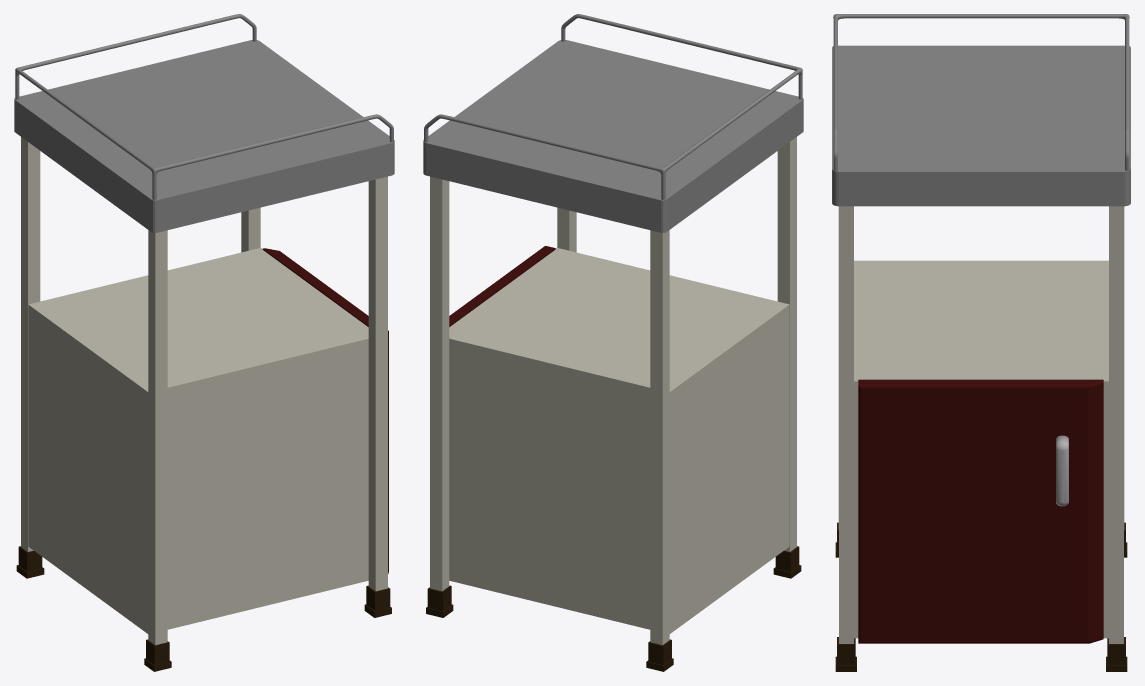
The model's file is bedside_locker _plain-optimized.glb.
The picture shows the model from 3 angles, left to right: view 1: azimuth 30°, elevation 25°; view 2: azimuth 150°, elevation 25°; view 3: azimuth 270°, elevation 25°; orthographic projection. The views are drawn at different scales.
Parts seen in each view (by area): view 1: Cube, Cube.002, Cube.001; view 2: Cube, Cube.002, Cube.001; view 3: Cube.001, Cube.002, Cube, Cylinder.
Boxes of the visible parts, x1,y1,x2,y2 form: Cube: [16, 137, 391, 671]; Cube.002: [14, 14, 394, 232]; Cube.001: [262, 248, 388, 573]; Cube: [426, 137, 801, 671]; Cube.002: [423, 14, 803, 232]; Cube.001: [449, 246, 555, 326]; Cube.001: [858, 379, 1103, 643]; Cube.002: [832, 14, 1130, 206]; Cube: [835, 206, 1127, 671]; Cylinder: [1056, 435, 1068, 506].
Bounding box in the file's own units: 0.8966 × 1.62 × 0.8233.
